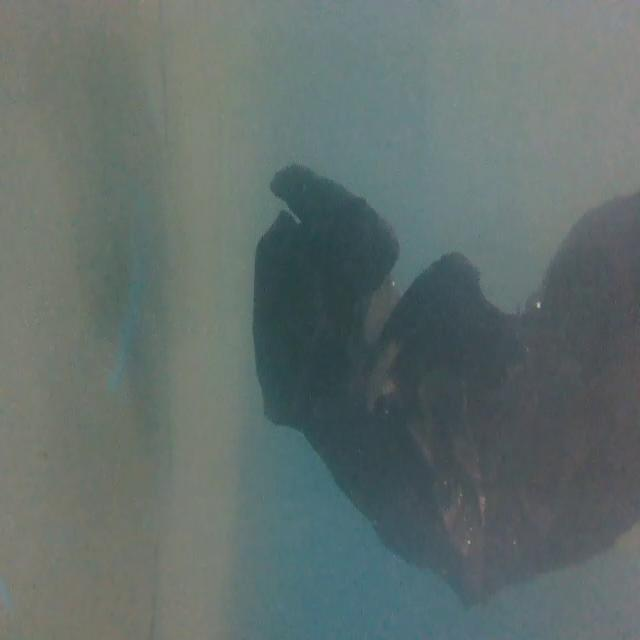plastic bags: (250, 156, 640, 612)
